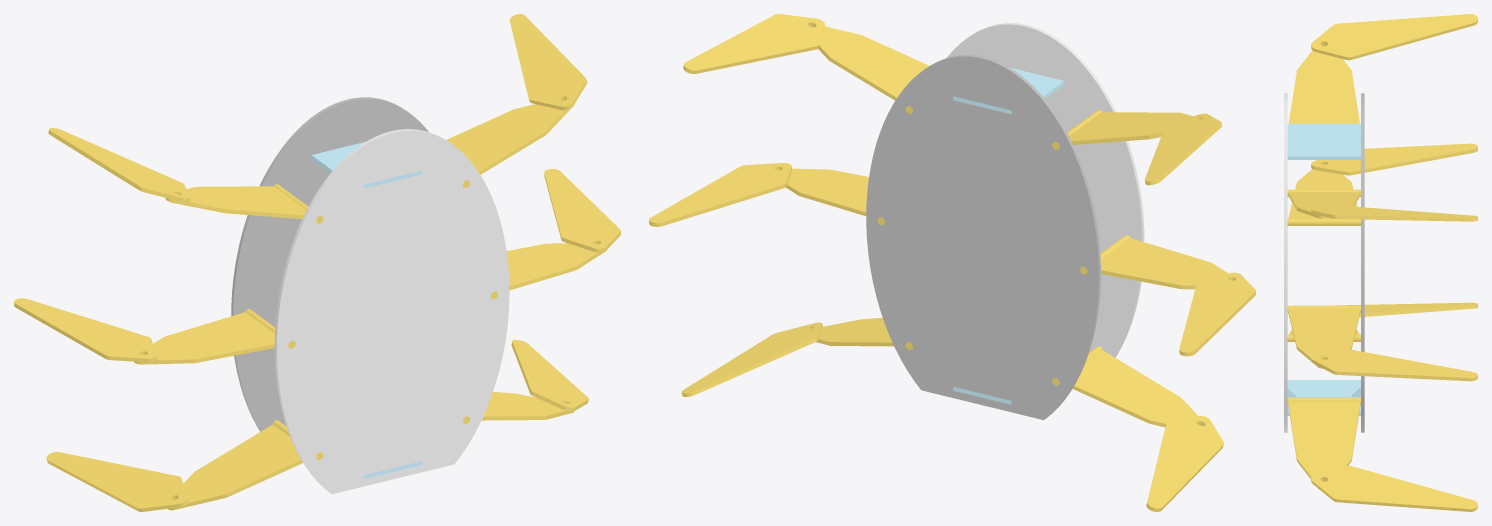
Rendered from hexapod.glb.
3 views of the same model, side by side, from view 1: azimuth 30°, elevation 25°; view 2: azimuth 150°, elevation 25°; view 3: azimuth 270°, elevation 25° (orthographic). The views are drawn at different scales.
Parts seen in each view (by area): view 1: top, upper_leg (×6), lower_leg (×6), bottom, back_stand; view 2: bottom, lower_leg (×6), upper_leg (×6), top, back_stand; view 3: lower_leg (×6), upper_leg (×5), back_stand, front_stand, top, bottom.
Part boxes in pixels (<box>): top: <box>274,129,509,494</box>; upper_leg (×6): <box>134,100,606,510</box>; lower_leg (×6): <box>14,14,620,511</box>; bottom: <box>231,97,428,431</box>; back_stand: <box>311,142,422,188</box>; bottom: <box>866,55,1100,420</box>; lower_leg (×6): <box>649,14,1255,511</box>; upper_leg (×6): <box>786,25,1228,427</box>; top: <box>947,23,1144,357</box>; back_stand: <box>953,68,1063,114</box>; lower_leg (×6): <box>1311,14,1477,511</box>; upper_leg (×5): <box>1287,44,1360,488</box>; back_stand: <box>1287,123,1360,159</box>; front_stand: <box>1287,380,1360,415</box>; top: <box>1284,93,1287,432</box>; bottom: <box>1361,93,1364,432</box>.
Size of the model in its own units: 304 by 187 by 106.
